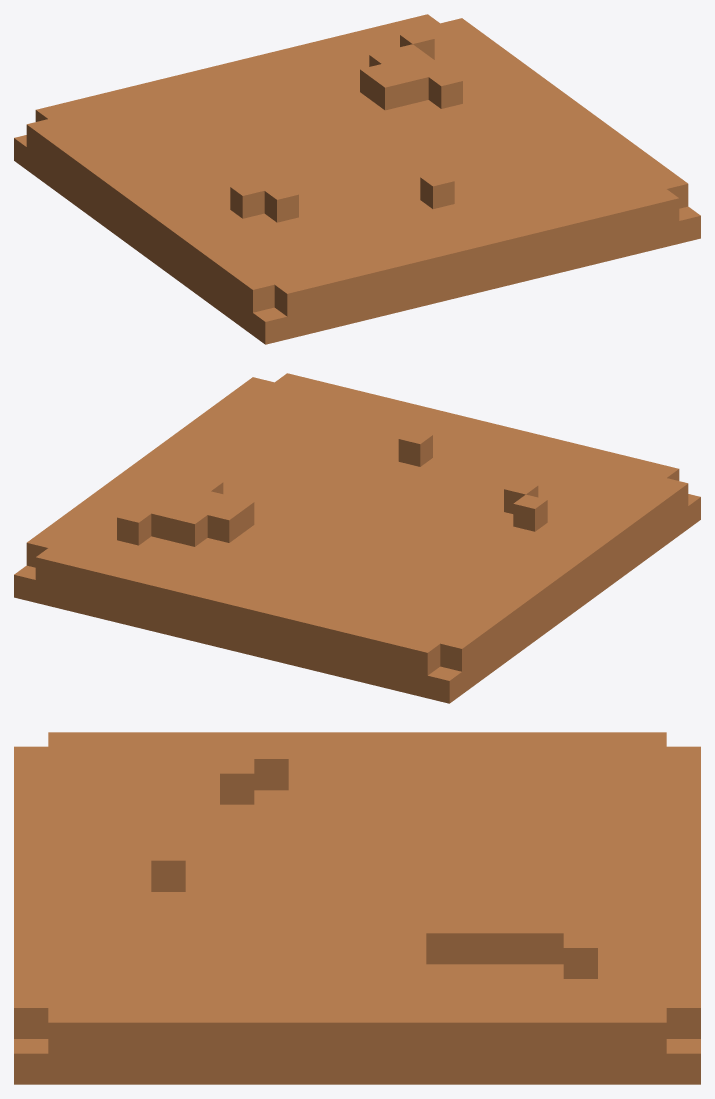
File: farm_grid.fbx
3 views of the same model, one above another, from view 1: azimuth 30°, elevation 25°; view 2: azimuth 150°, elevation 25°; view 3: azimuth 270°, elevation 25° (orthographic). The views are drawn at different scales.
Visible parts, largest first — view 1: farm_grid; view 2: farm_grid; view 3: farm_grid.
Boxes of the visible parts, x1,y1,x2,y2 form: farm_grid: (14,14,700,344); farm_grid: (14,373,700,703); farm_grid: (14,732,700,1084).
Size of the model in its own units: 200 by 30 by 200.
Materials: 1 (1 with a texture image).
